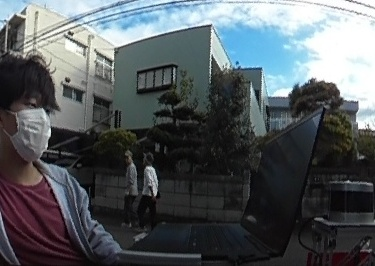person: (138, 151, 159, 231), (119, 151, 137, 224)
